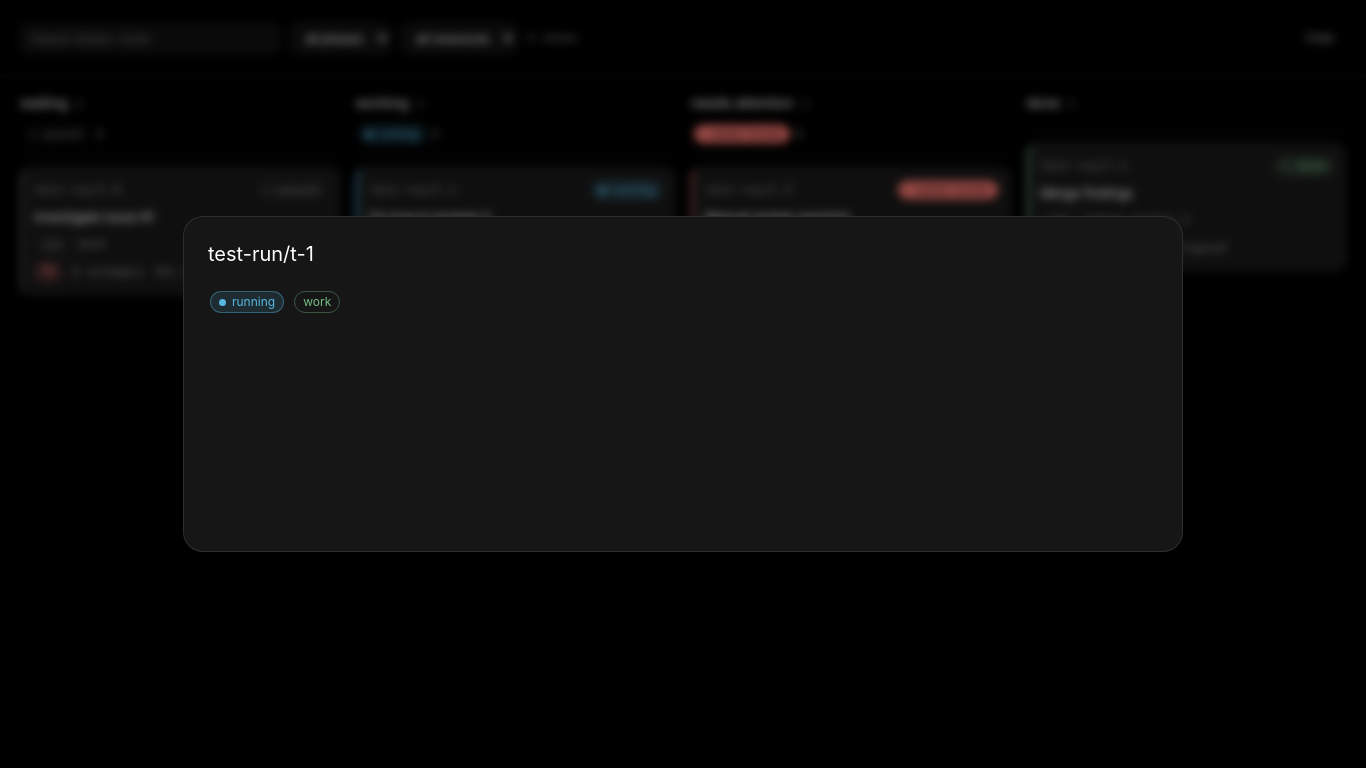
TicketBoard — the open ticket is in the route › closing the ticket keeps the Tickets route
Click the dialog. click: (82, 384)
box: [0,0,1365,767]
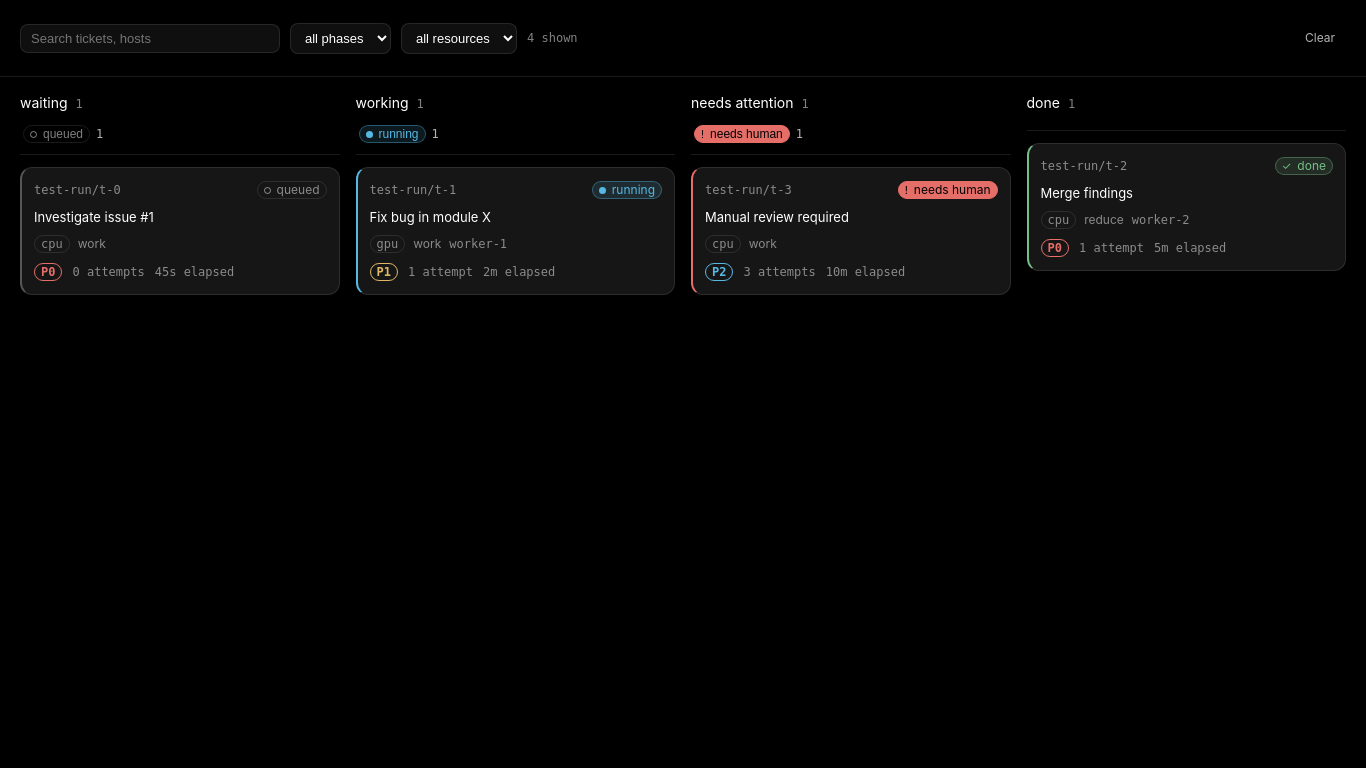
Expected: the dialog is gone
